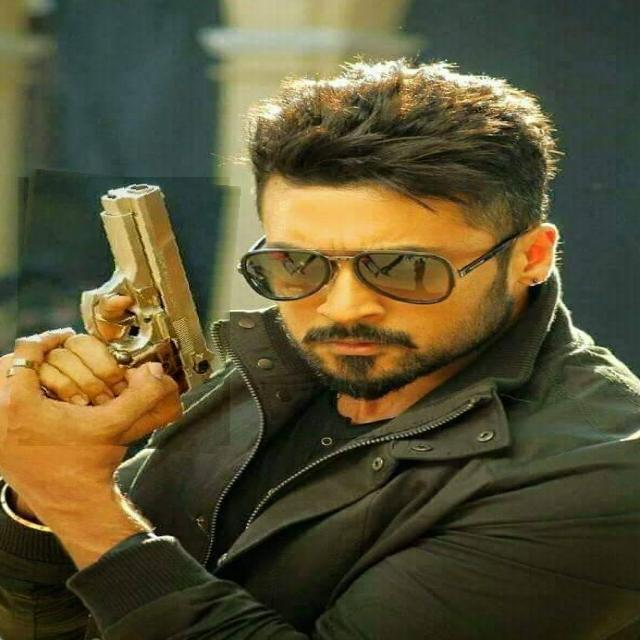handgun: (13, 172, 236, 450)
